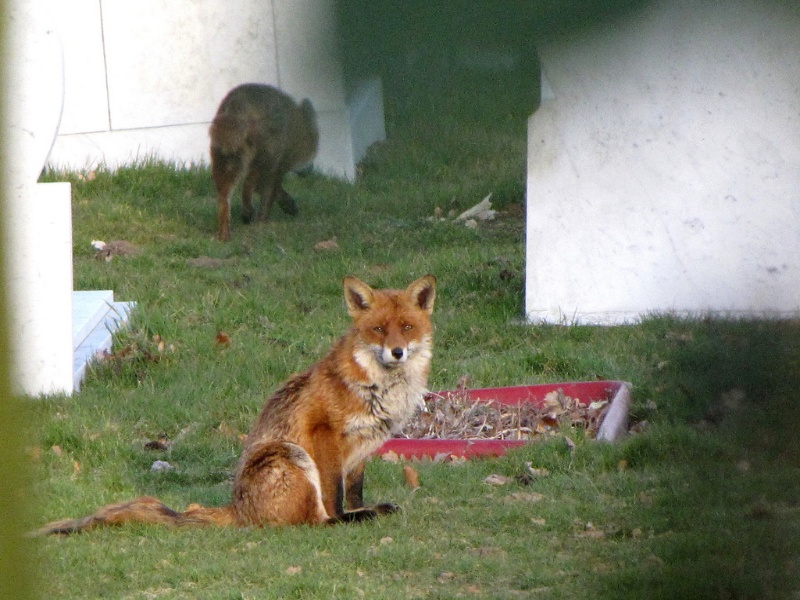fox: (28, 276, 443, 551), (204, 76, 328, 241)
